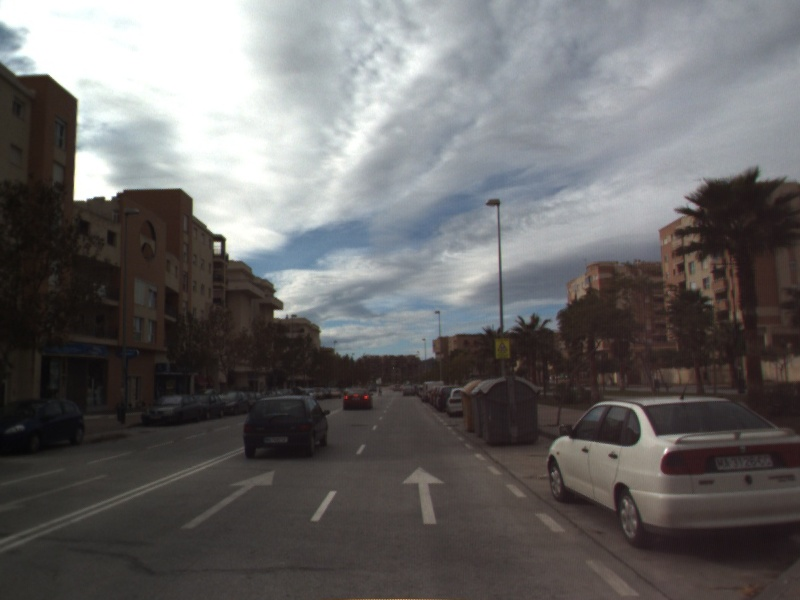STRAIGHT: (178, 468, 277, 531), (400, 464, 447, 526)
